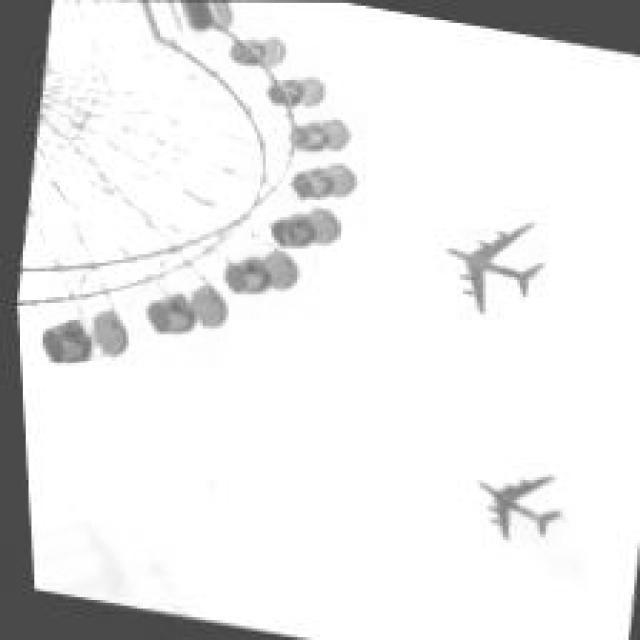aeroplane: (420, 195, 563, 328), (454, 460, 572, 554)
